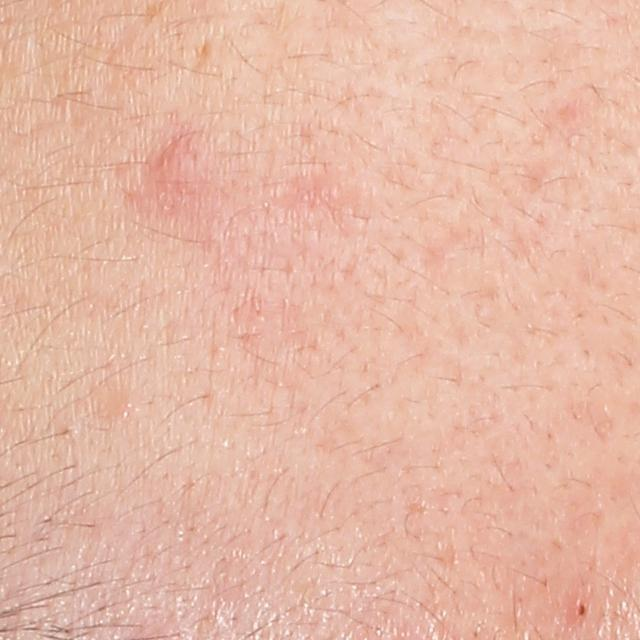papule: (144, 134, 198, 195)
